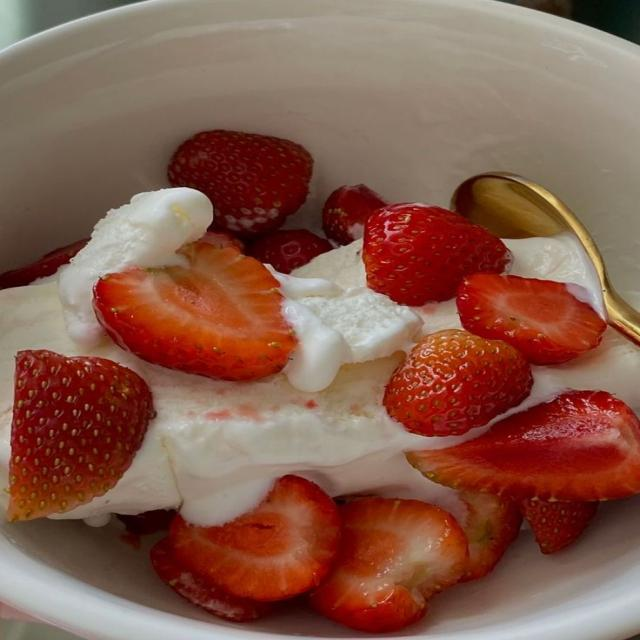strawberry sliced: (94, 243, 296, 380), (407, 391, 639, 501), (8, 350, 153, 520), (170, 475, 339, 601), (311, 497, 467, 632), (384, 330, 533, 435), (168, 130, 313, 237), (363, 204, 509, 305), (457, 274, 606, 364), (150, 538, 273, 622), (460, 492, 522, 581), (0, 239, 88, 289), (520, 500, 599, 553), (322, 184, 389, 244), (247, 229, 333, 274), (118, 510, 176, 536), (199, 230, 244, 252)
